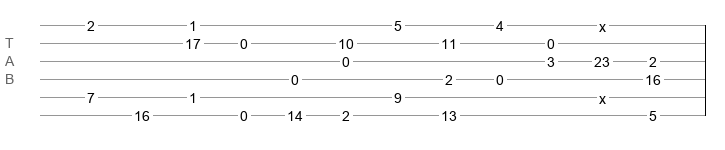0: (240, 36, 248, 46), (240, 108, 248, 118), (291, 72, 299, 82), (342, 54, 350, 64), (496, 72, 504, 82), (547, 36, 555, 46)
1: (189, 90, 197, 100), (189, 18, 197, 28)
10: (338, 36, 354, 46)
11: (441, 36, 457, 46)
13: (441, 108, 457, 118)
14: (287, 108, 303, 118)
16: (134, 108, 150, 118), (645, 72, 661, 82)
17: (185, 36, 201, 46)
2: (87, 18, 95, 28), (342, 108, 350, 118), (445, 72, 453, 82), (649, 54, 657, 64)
23: (594, 54, 610, 64)
3: (547, 54, 555, 64)
4: (496, 18, 504, 28)
5: (394, 18, 402, 28), (649, 108, 657, 118)
7: (87, 90, 95, 100)
9: (394, 90, 402, 100)
x: (599, 19, 606, 27), (599, 91, 606, 99)
